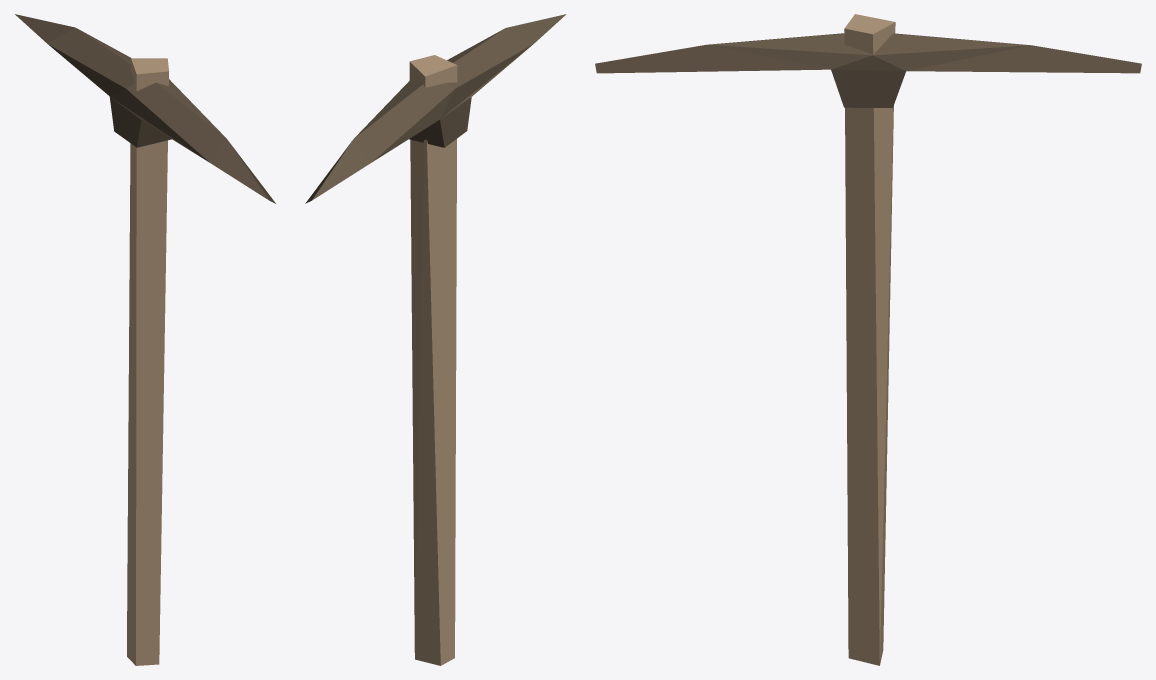
Rendered from WoodenPickaxe.glb.
3 renders of one model, left to right at view 1: azimuth 30°, elevation 25°; view 2: azimuth 150°, elevation 25°; view 3: azimuth 270°, elevation 25°, orthographic. The views are drawn at different scales.
Visible parts, largest first — view 1: Cylinder, Cylinder.001; view 2: Cylinder, Cylinder.001; view 3: Cylinder, Cylinder.001.
Part boxes in pixels (<box>): Cylinder: <box>127,58,169,665</box>; Cylinder.001: <box>15,14,275,203</box>; Cylinder: <box>409,55,457,665</box>; Cylinder.001: <box>305,14,566,203</box>; Cylinder: <box>844,14,895,665</box>; Cylinder.001: <box>595,33,1141,107</box>.
Bounding box in the file's own units: 0.0716 × 0.902 × 0.7029.
